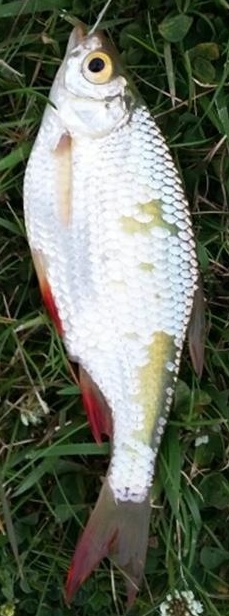Scardinius erythrophthalmus: (20, 20, 209, 596)
